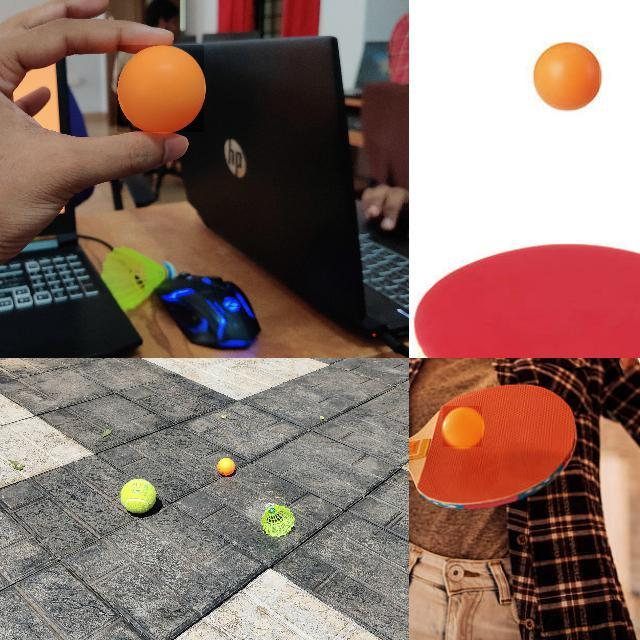ping-pong-ball: (117, 44, 205, 134), (534, 41, 600, 111), (443, 406, 483, 448), (217, 457, 233, 475)
